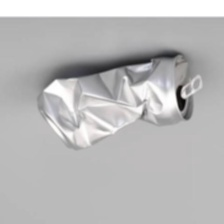can: (24, 46, 207, 153)
